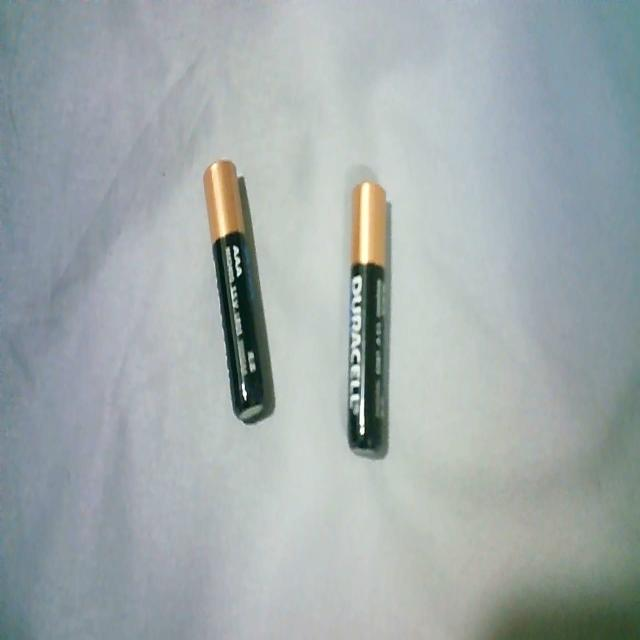AAA: (198, 153, 270, 427), (342, 175, 396, 464)
